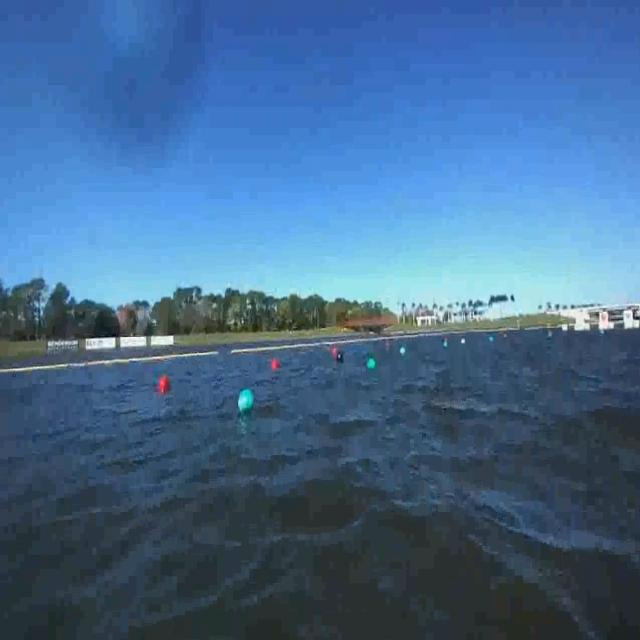green-buoy: (236, 390, 252, 416), (367, 357, 375, 370)
red-buoy: (157, 374, 171, 394), (272, 358, 280, 370)
